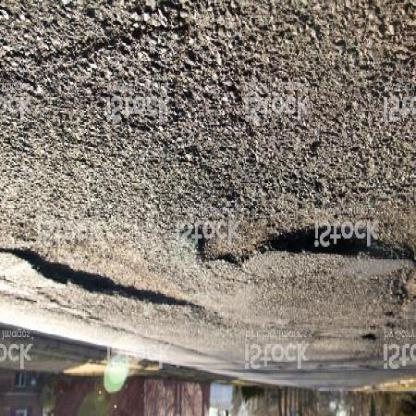pothole: (7, 228, 201, 316), (191, 209, 416, 271)
